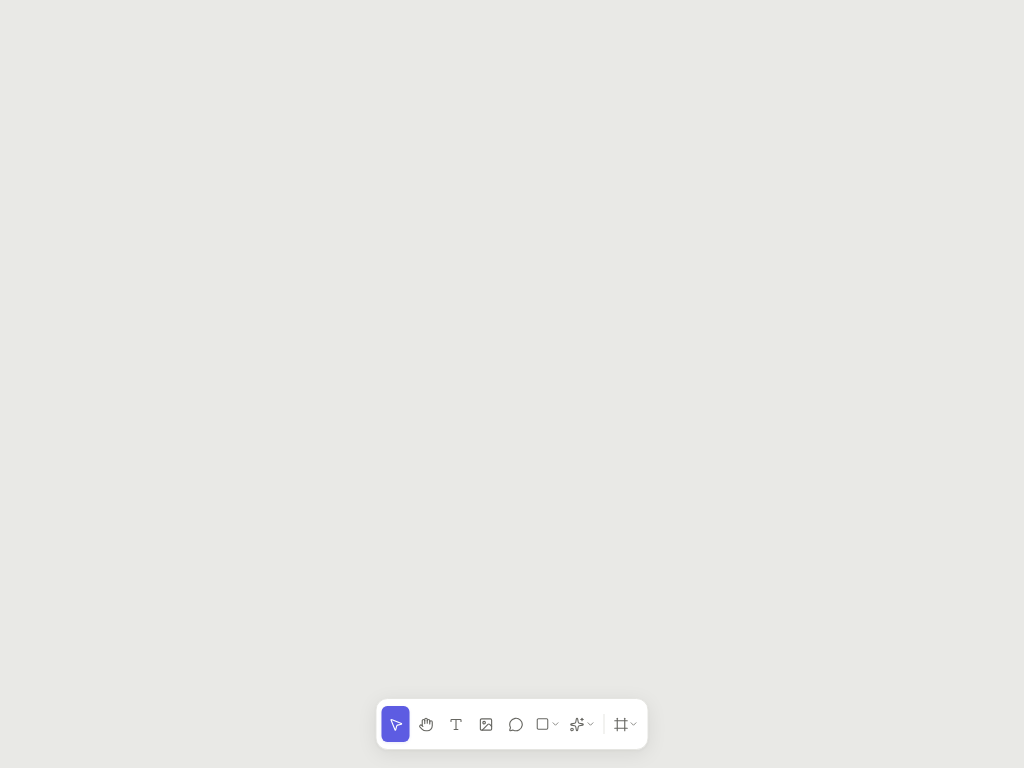
Test: CanvasDock shape menu › closes when a pointer lands outside the menu
The image size is (1024, 768).
Click the button with test id "shape-menu-button": [548, 724] box x1=530 y1=706 x2=564 y2=742
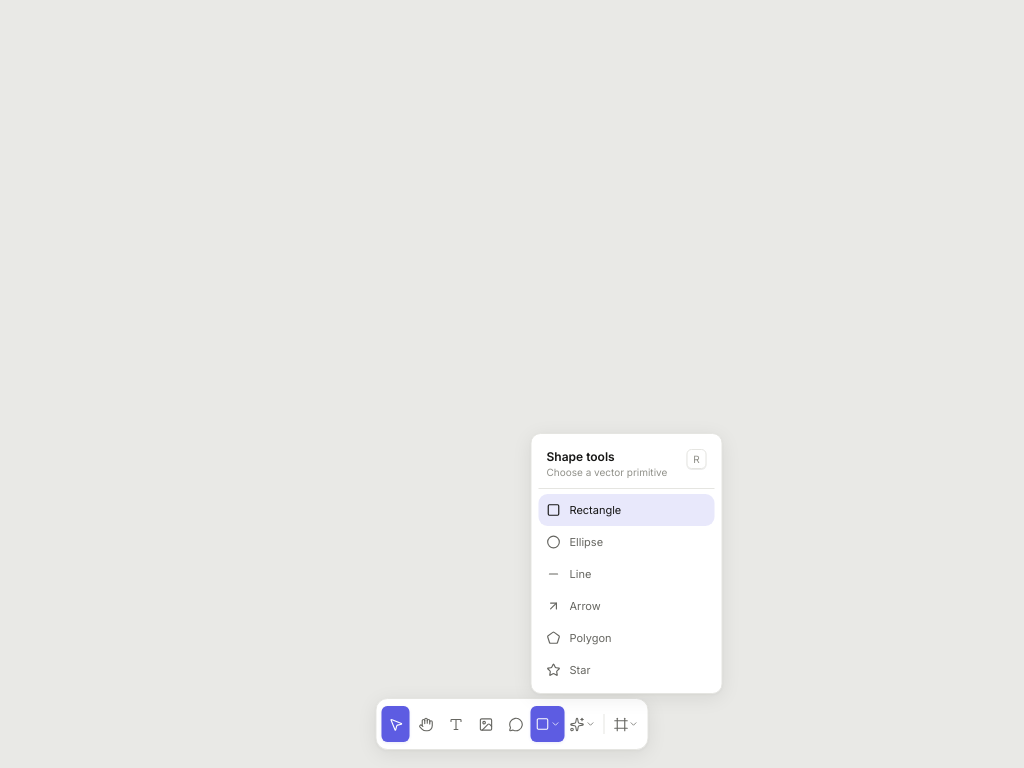
Expected: the menu item with test id "shape-menu-rectangle" is shown, x1=538 y1=494 x2=714 y2=526
Press the mouse on the element that starts with "Shape tools": [512, 384] box x1=0 y1=0 x2=1023 y2=767
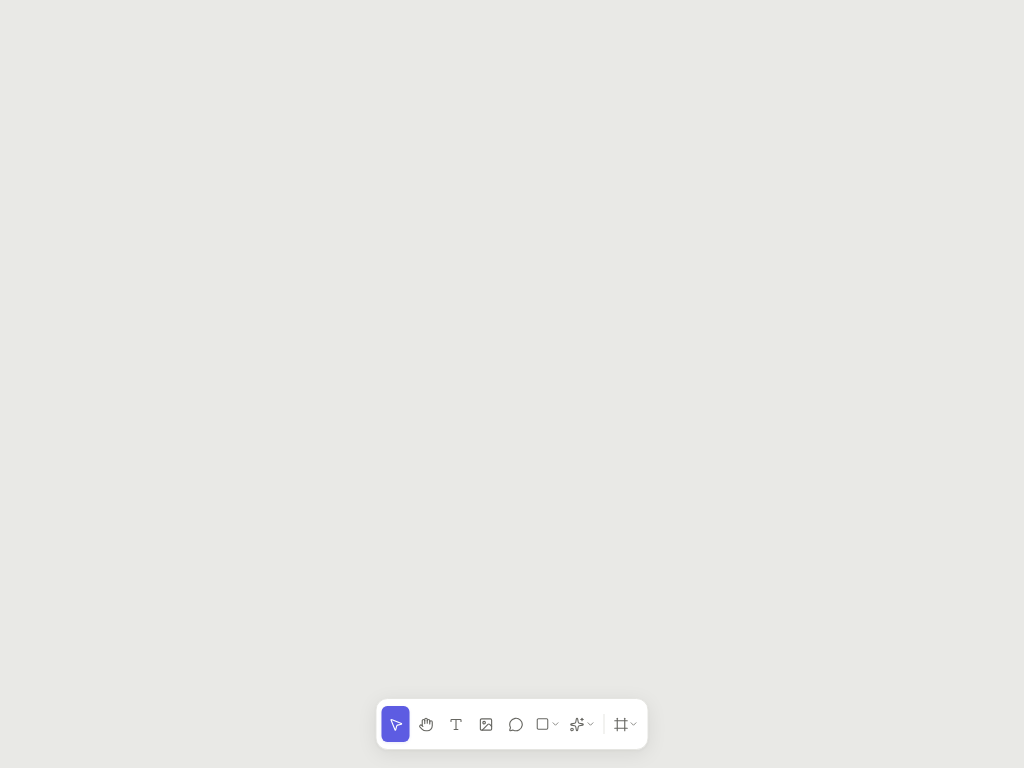
Expected: the menu item with test id "shape-menu-rectangle" is gone
